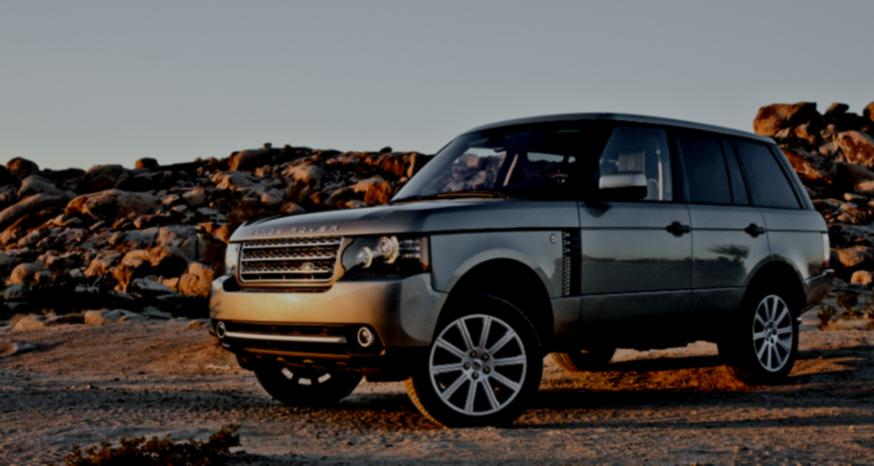range rover: (242, 214, 349, 245)
